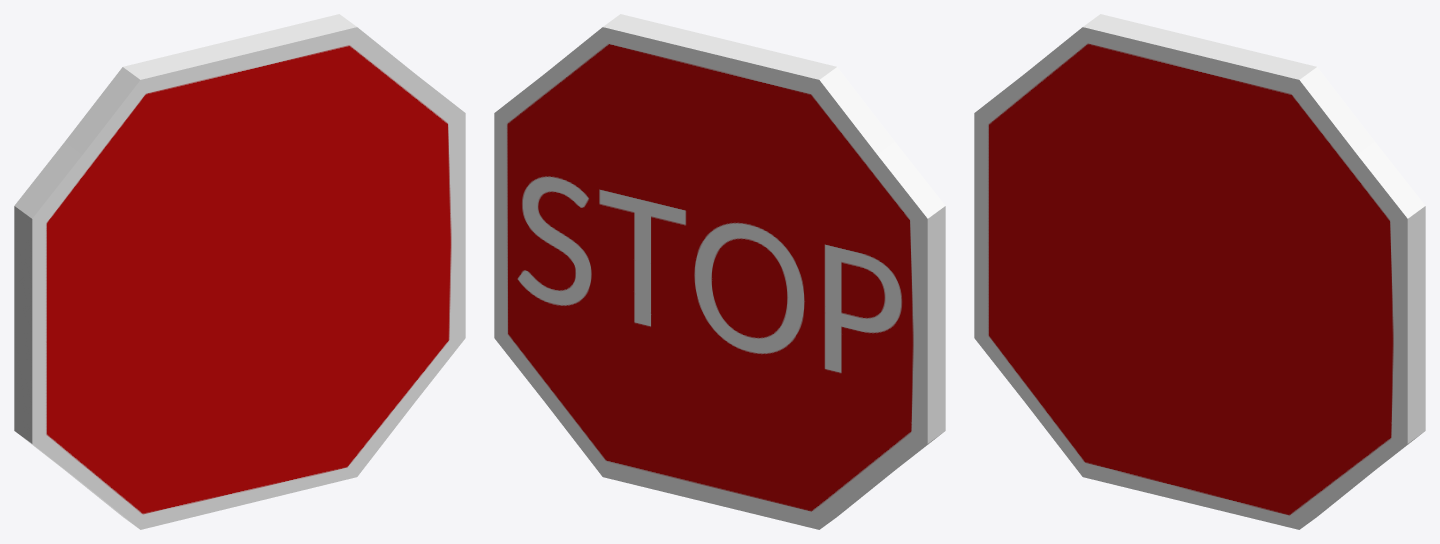
Rendered from stop_sign.fbx.
The picture shows the model from 3 angles, left to right: view 1: azimuth 30°, elevation 25°; view 2: azimuth 150°, elevation 25°; view 3: azimuth 330°, elevation 25°; orthographic projection.
Parts seen in each view (by area): view 1: Cube; view 2: Cube; view 3: Cube.
Boxes of the visible parts, x1,y1,x2,y2 form: Cube: (14,14,465,529); Cube: (494,14,945,529); Cube: (974,14,1425,529).
Size of the model in its own units: 267 by 265 by 19.08.
Materials: 1 (1 with a texture image).
